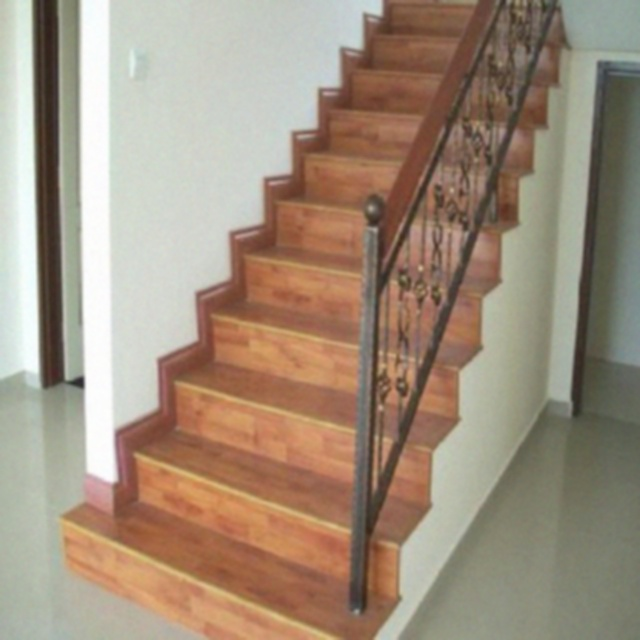stair: (71, 0, 582, 620)
